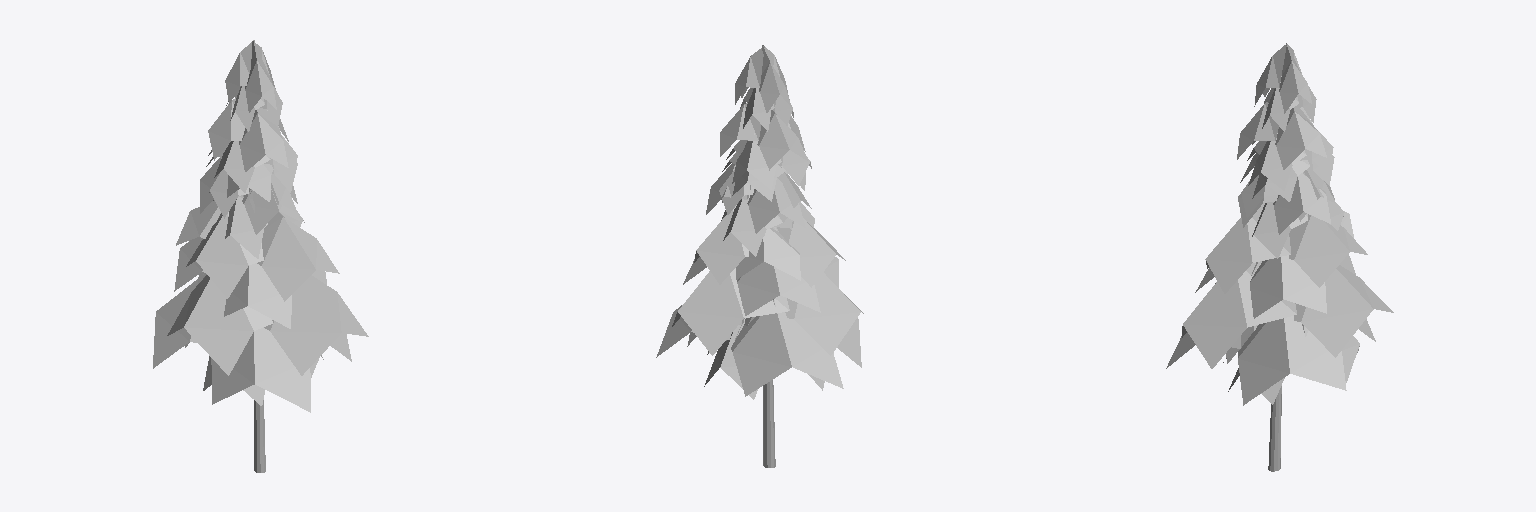
The model's file is tree2.obj.
The picture shows the model from 3 angles: view 1: azimuth 30°, elevation 25°; view 2: azimuth 150°, elevation 25°; view 3: azimuth 270°, elevation 25°; orthographic projection.
Visible parts, largest first — view 1: Plane.012; view 2: Plane.012; view 3: Plane.012.
Boxes of the visible parts, x1=… form: Plane.012: x1=153, y1=40, x2=368, y2=472; Plane.012: x1=656, y1=45, x2=863, y2=467; Plane.012: x1=1166, y1=43, x2=1393, y2=471.
Size of the model in its own units: 7.79 by 17.71 by 8.62.